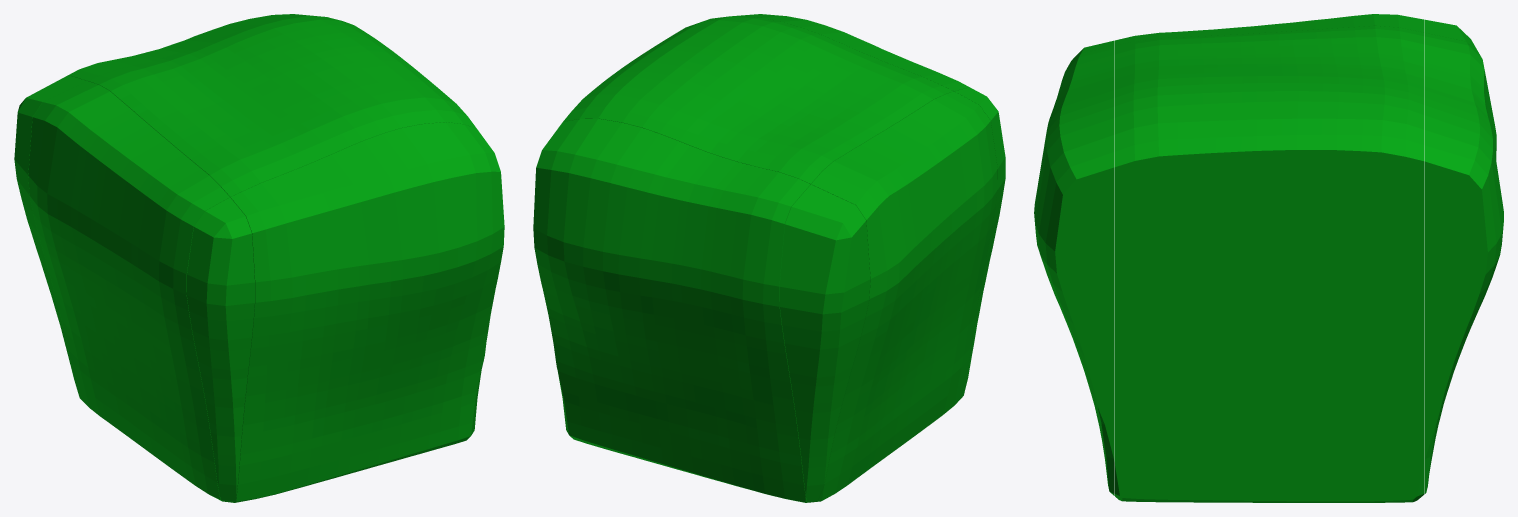
The model's file is 4by10beveledsubdivided.032.fbx.
The picture shows the model from 3 angles, left to right: view 1: azimuth 30°, elevation 25°; view 2: azimuth 150°, elevation 25°; view 3: azimuth 270°, elevation 25°; orthographic projection. The views are drawn at different scales.
Visible parts, largest first — view 1: 4by10beveledsubdivided.032; view 2: 4by10beveledsubdivided.032; view 3: 4by10beveledsubdivided.032.
Boxes of the visible parts, x1,y1,x2,y2 form: 4by10beveledsubdivided.032: [14, 14, 504, 502]; 4by10beveledsubdivided.032: [533, 14, 1005, 502]; 4by10beveledsubdivided.032: [1034, 14, 1503, 502].
Bounding box in the file's own units: 252 × 266 × 304.
